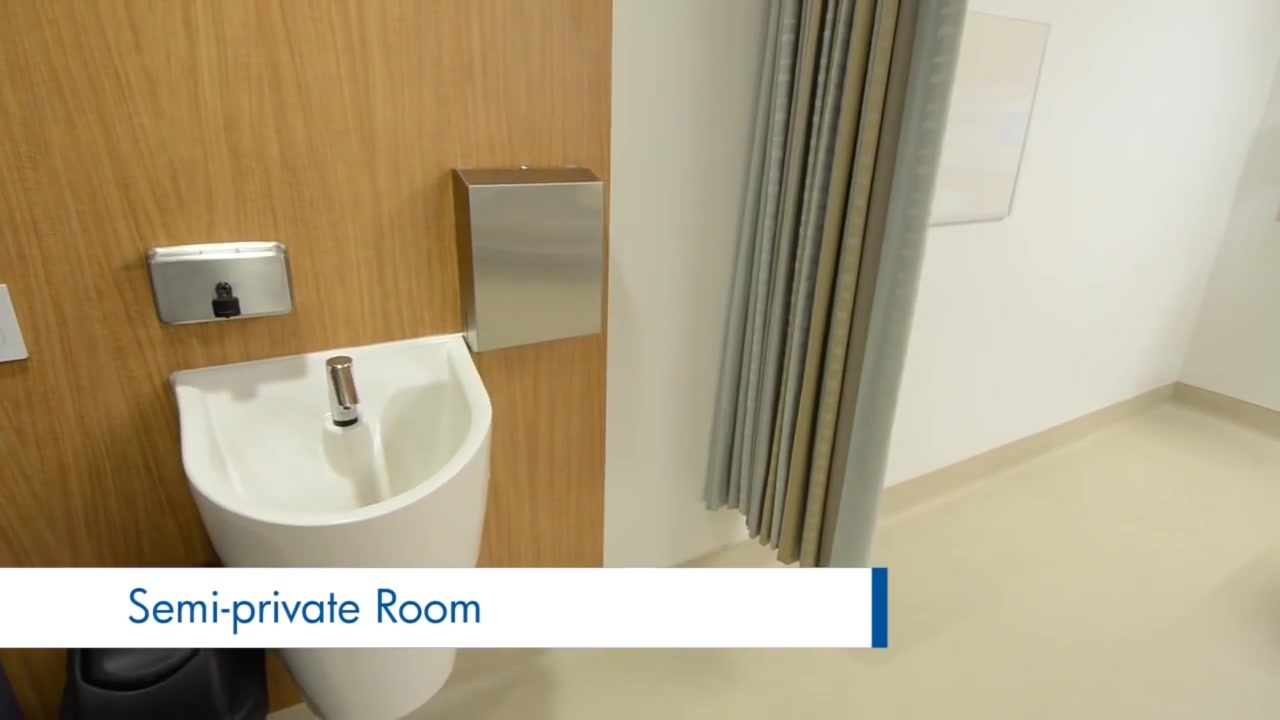curtain: (703, 1, 971, 568)
dispenser: (453, 170, 602, 355)
faucet: (326, 354, 359, 429)
sink: (194, 332, 476, 516)
waste_bin: (61, 648, 268, 720)
